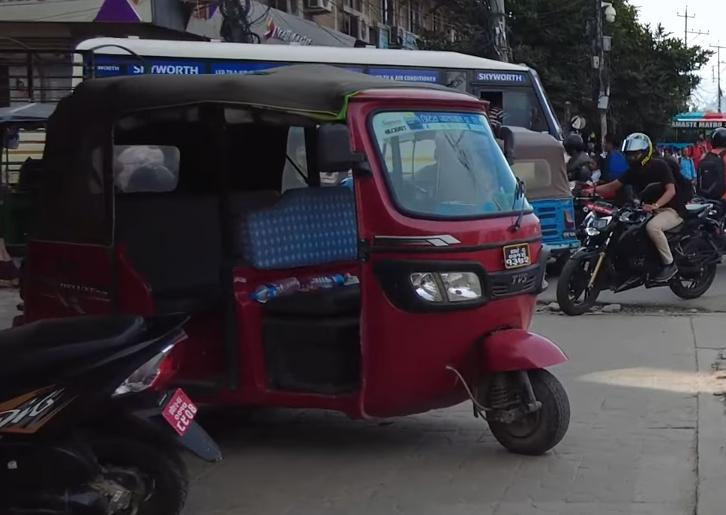auto_rickshaw: (15, 66, 572, 458)
bike: (552, 165, 726, 321)
scooter: (0, 302, 221, 515)
